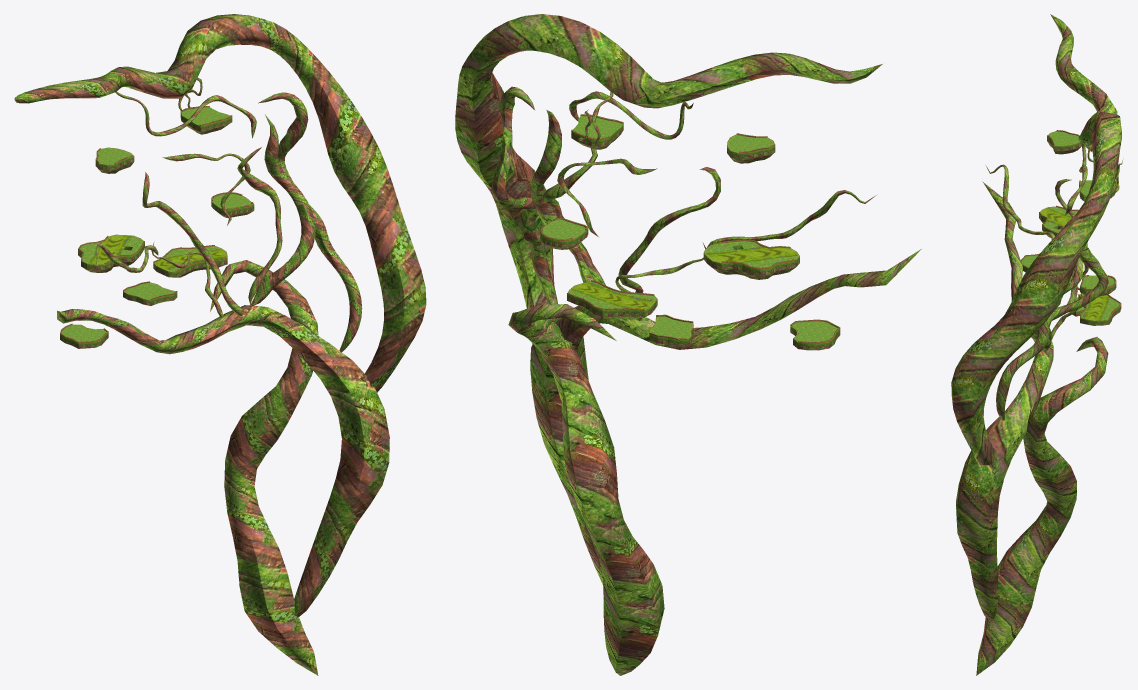
The model's file is Frog Forest 10.fbx.
The picture shows the model from 3 angles, left to right: view 1: azimuth 30°, elevation 25°; view 2: azimuth 150°, elevation 25°; view 3: azimuth 270°, elevation 25°; orthographic projection. The views are drawn at different scales.
Visible parts, largest first — view 1: Object_2.015, Object_2.014; view 2: Object_2.015, Object_2.014; view 3: Object_2.015, Object_2.014.
Part boxes in pixels (x1=…): Object_2.015: x1=14, y1=14, x2=426, y2=675; Object_2.014: x1=61, y1=107, x2=251, y2=341; Object_2.015: x1=455, y1=14, x2=921, y2=675; Object_2.014: x1=542, y1=116, x2=837, y2=341; Object_2.015: x1=951, y1=14, x2=1123, y2=675; Object_2.014: x1=1021, y1=131, x2=1119, y2=320.
Size of the model in its own units: 204711 by 329520 by 93727.
